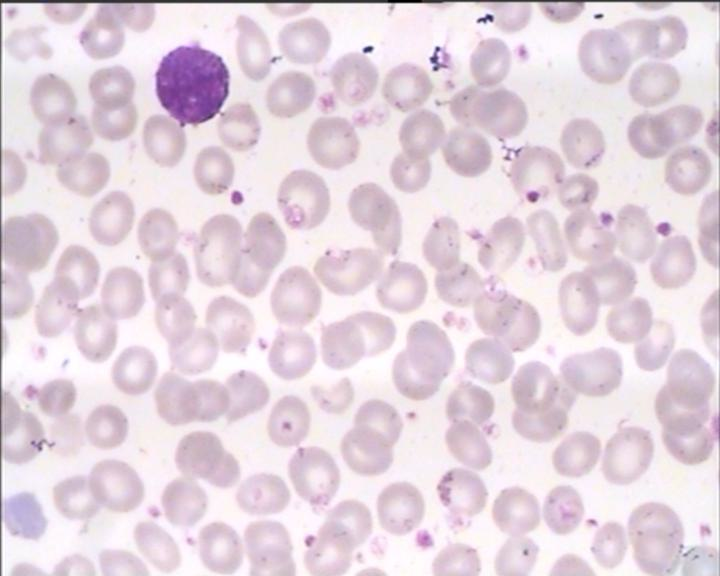baso: (151, 42, 236, 127)
